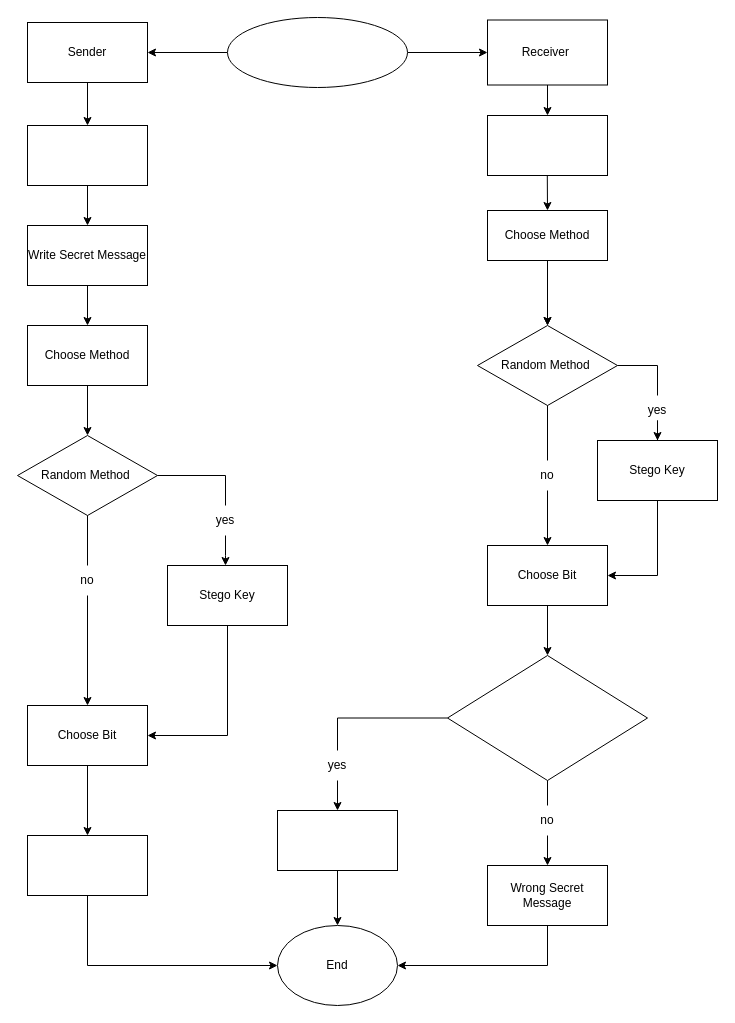
This 735x1023 diagram has some shape labels left out. The shapes that lost their labels are listed below. From the top down, each one's centre as x and y in pixels, then its label:
(317,52): Start
(87,155): Select Cover Image
(547,145): Load Stego-image
(547,717): Same Sender Method and Bits
(337,840): Correct Secret Message
(87,865): Stego-image
